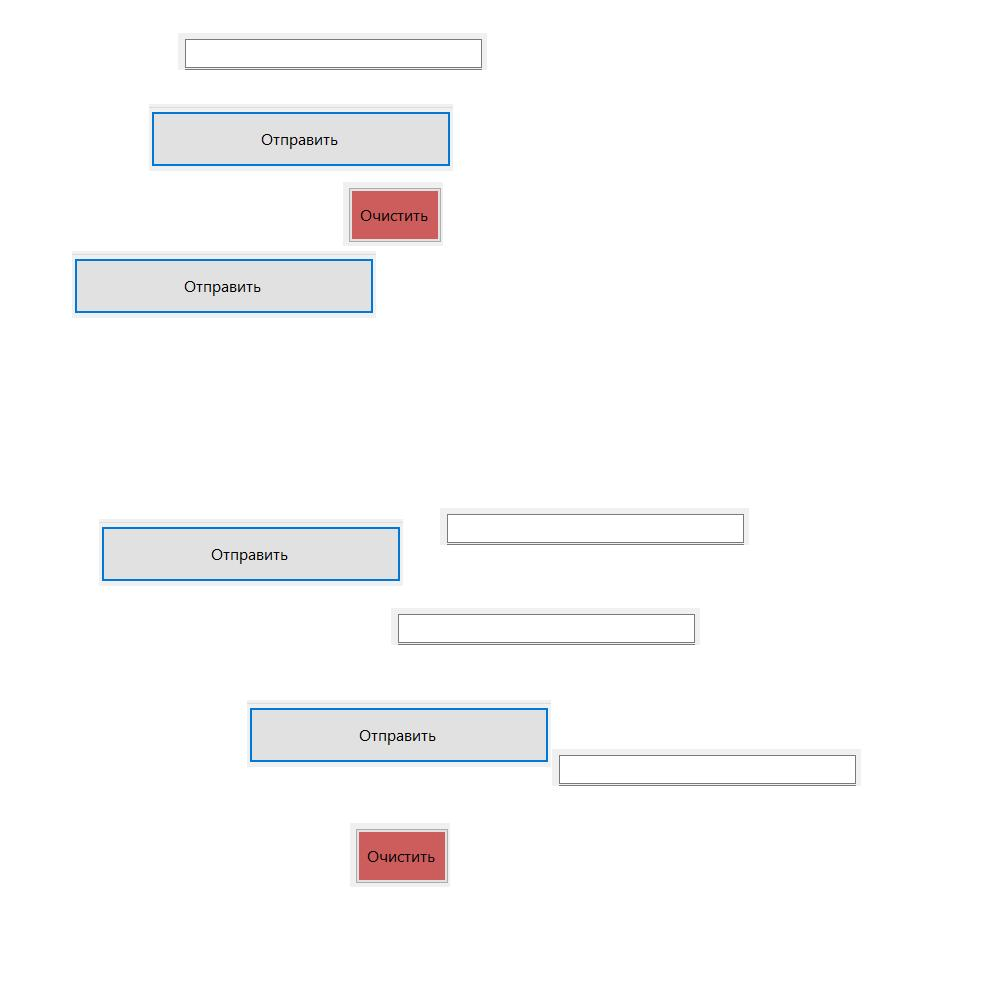Button: (149, 104, 453, 171), (99, 519, 403, 586), (247, 700, 551, 767), (72, 251, 376, 318), (350, 823, 450, 887), (343, 182, 443, 246)
EditText-: (440, 508, 749, 545), (178, 33, 487, 70), (552, 749, 861, 786), (391, 608, 700, 645)
